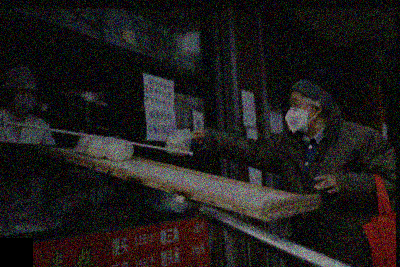with_mask: (283, 96, 312, 135), (10, 87, 37, 113)
